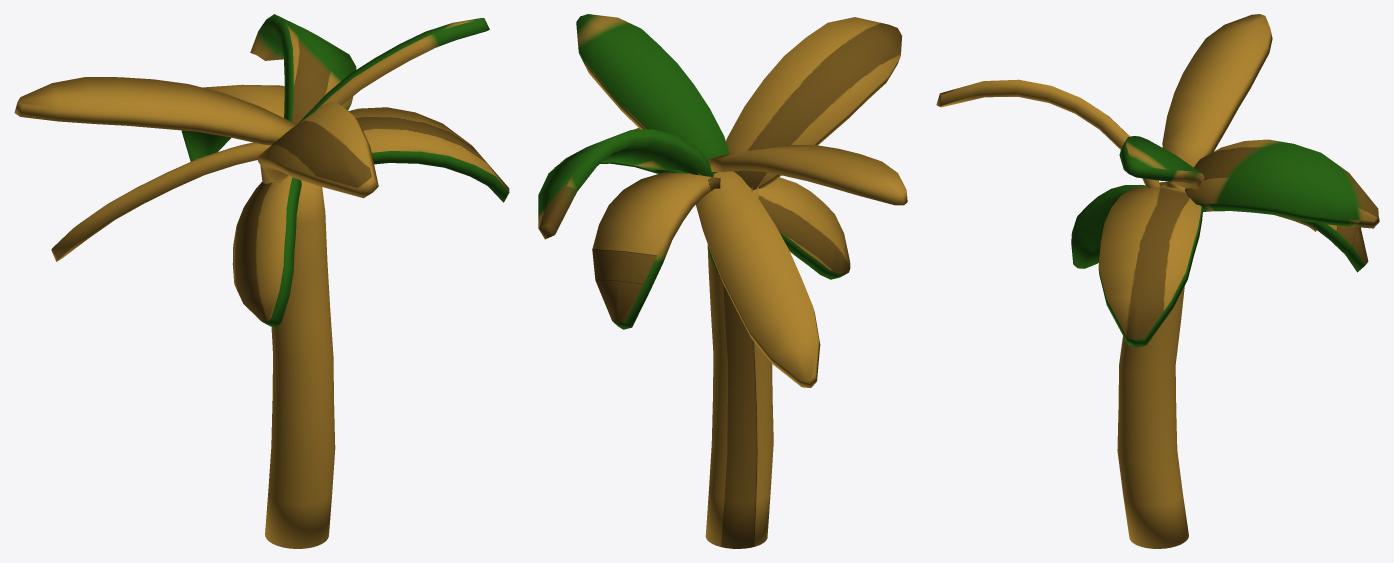
Rendered from SabalPalm1.fbx.
The picture shows the model from 3 angles, left to right: view 1: azimuth 30°, elevation 25°; view 2: azimuth 150°, elevation 25°; view 3: azimuth 270°, elevation 25°; orthographic projection. The views are drawn at different scales.
Parts seen in each view (by area): view 1: PalmTree3.001; view 2: PalmTree3.001; view 3: PalmTree3.001.
Boxes of the visible parts, left/top/right/bottom form: PalmTree3.001: left=14, top=14, right=509, bottom=548; PalmTree3.001: left=538, top=14, right=907, bottom=548; PalmTree3.001: left=936, top=14, right=1379, bottom=548.
Bounding box in the file's own units: 12492 × 13650 × 12019.
